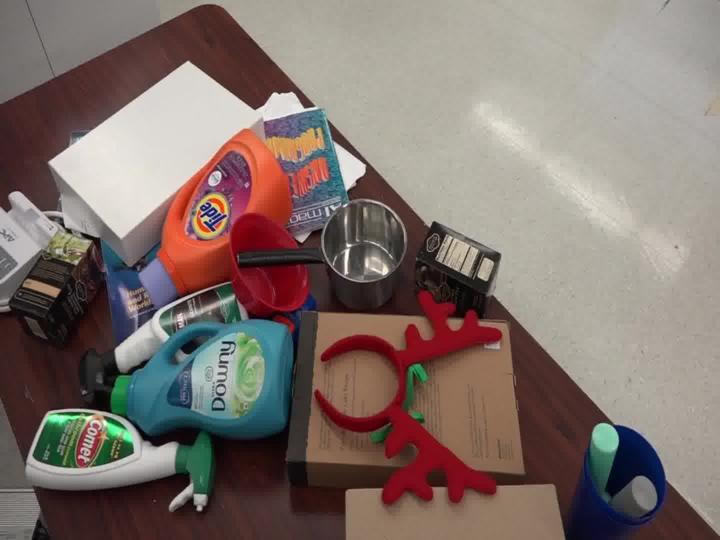tide: (132, 112, 302, 295)
